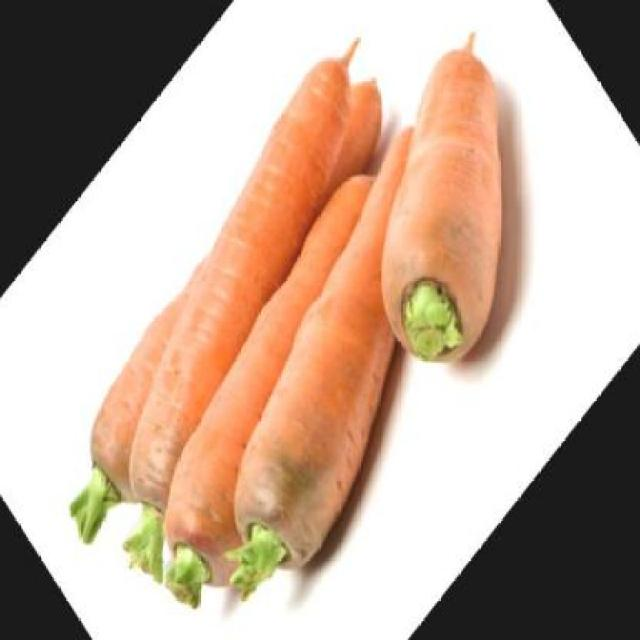carrot: (63, 19, 445, 532), (168, 116, 520, 599), (119, 154, 458, 617), (316, 16, 587, 398), (69, 253, 263, 519)
